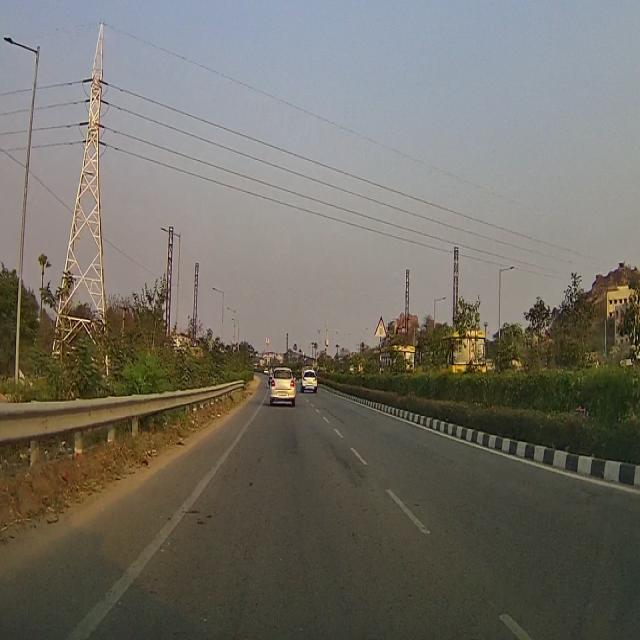gap-in-median: (374, 316, 386, 338)
